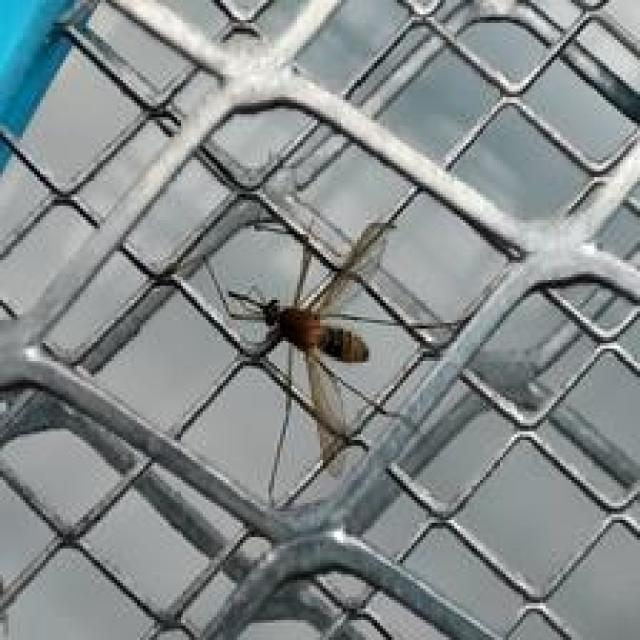Culex: (214, 214, 452, 483)
